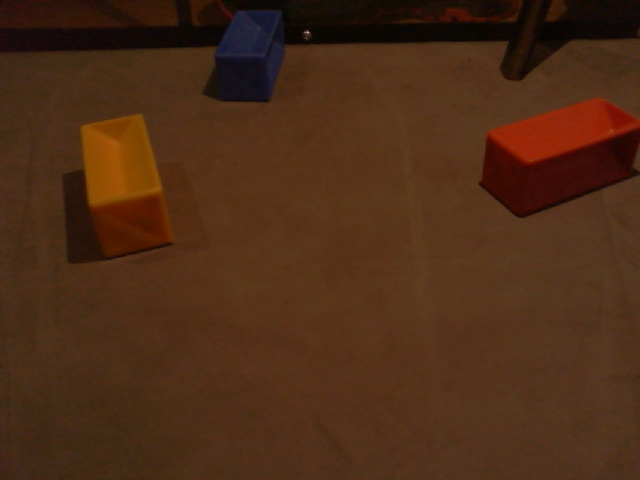BlueSample: (212, 10, 286, 104)
RedSample: (477, 96, 640, 217)
YellowSample: (75, 112, 177, 263)
